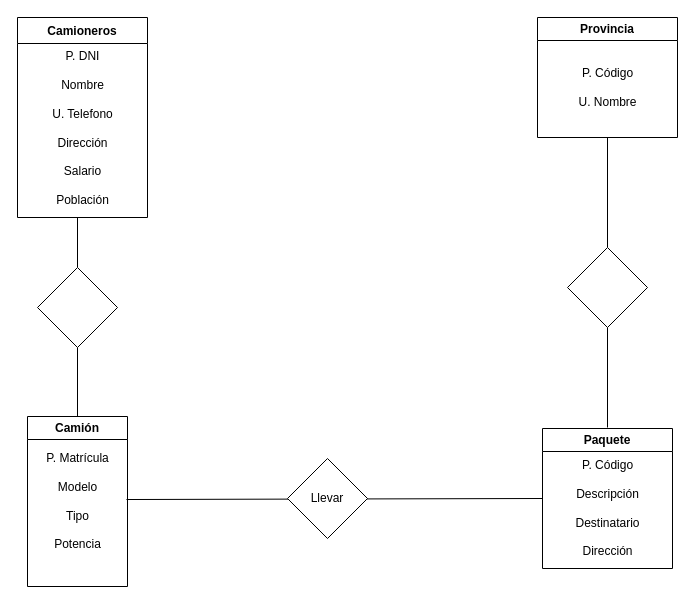
This 695x604 diagram has some shape labels left out. Here are the shapes that lost their labels. From the top down, the centre of each, then its label:
the point at 77,307: Conducir
the point at 607,287: Llegar
